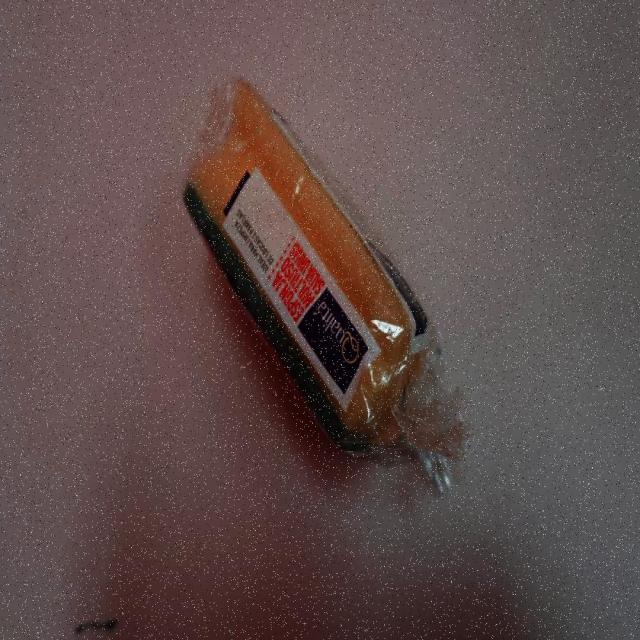Sponge: (183, 79, 472, 492)
